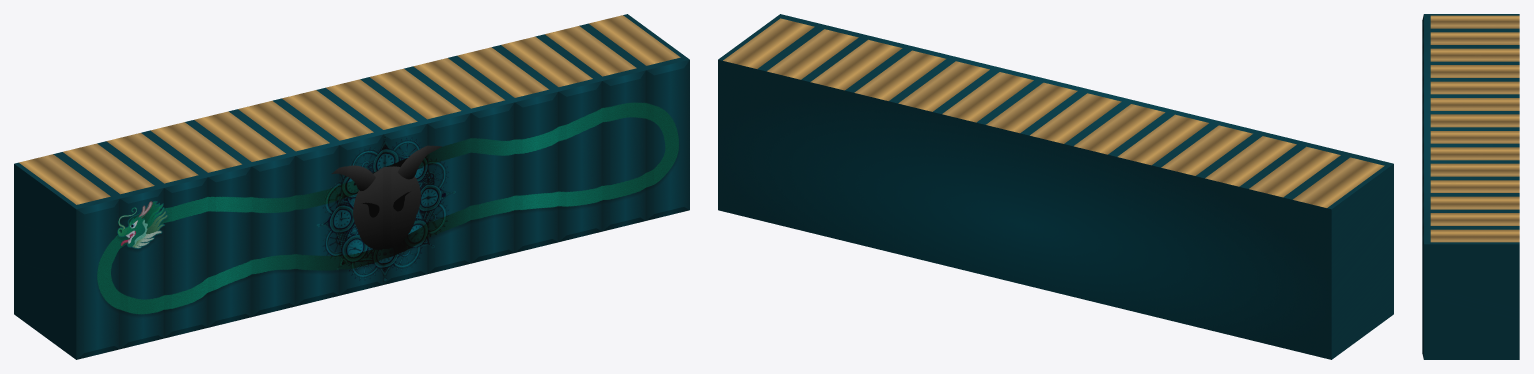
The model's file is Puzzlebooks.fbx.
3 views of the same model, side by side, from view 1: azimuth 30°, elevation 25°; view 2: azimuth 150°, elevation 25°; view 3: azimuth 270°, elevation 25° (orthographic). The views are drawn at different scales.
Visible parts, largest first — view 1: Box048, Box037, Box039, Box040, Box041, Box042, Box036, Box038, Box047, Box035, Box043, Box044 (+2 smaller); view 2: Box048, Box037, Box039, Box040, Box041, Box042, Box036, Box035, Box038, Box043, Box044, Box047 (+2 smaller); view 3: Box036, Box041, Box039, Box044, Box048, Box035, Box037, Box038, Box040, Box042, Box043, Box045 (+2 smaller).
Part boxes in pixels (<box>): Box048: <box>14,153,120,359</box>; Box037: <box>496,35,602,242</box>; Box039: <box>409,57,514,263</box>; Box040: <box>452,46,558,252</box>; Box041: <box>190,110,295,316</box>; Box042: <box>233,99,339,306</box>; Box036: <box>584,14,689,220</box>; Box038: <box>365,67,470,274</box>; Box047: <box>146,121,251,327</box>; Box035: <box>540,24,645,231</box>; Box043: <box>277,89,382,295</box>; Box044: <box>321,78,426,284</box>; Box048: <box>1287,153,1393,359</box>; Box037: <box>805,35,911,242</box>; Box039: <box>893,57,998,263</box>; Box040: <box>849,46,955,252</box>; Box041: <box>1112,110,1217,316</box>; Box042: <box>1068,99,1174,306</box>; Box036: <box>718,14,823,220</box>; Box035: <box>762,24,867,231</box>; Box038: <box>937,67,1042,274</box>; Box043: <box>1025,89,1130,295</box>; Box044: <box>981,78,1086,284</box>; Box047: <box>1156,121,1261,327</box>; Box036: <box>1422,227,1519,359</box>; Box041: <box>1422,79,1519,101</box>; Box039: <box>1422,162,1519,184</box>; Box044: <box>1422,129,1519,151</box>; Box048: <box>1422,14,1519,36</box>; Box035: <box>1422,211,1519,233</box>; Box037: <box>1422,195,1519,216</box>; Box038: <box>1422,145,1519,167</box>; Box040: <box>1422,178,1519,200</box>; Box042: <box>1422,96,1519,118</box>; Box043: <box>1422,112,1519,134</box>; Box045: <box>1422,30,1519,52</box>.
Size of the model in its own units: 34.1 by 6.11 by 8.
14 materials, 14 textured.
